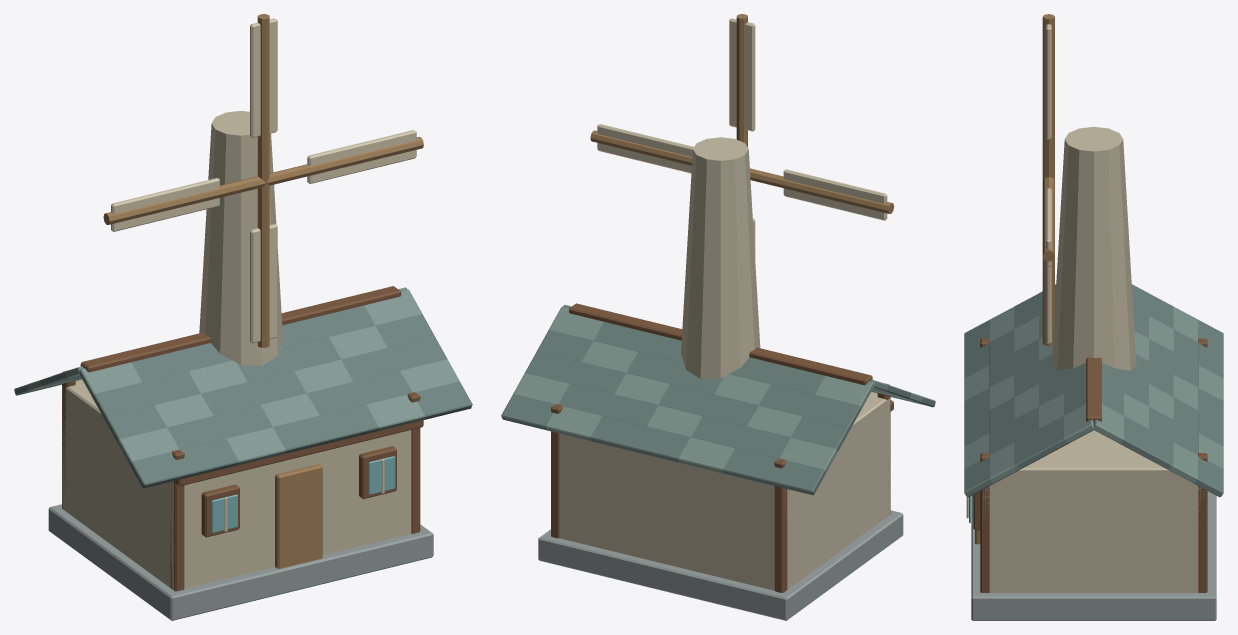
File: windmill.glb
3 renders of one model, left to right at view 1: azimuth 30°, elevation 25°; view 2: azimuth 150°, elevation 25°; view 3: azimuth 270°, elevation 25°, orthographic. The views are drawn at different scales.
Visible parts, largest first — view 1: Model; view 2: Model; view 3: Model.
Part boxes in pixels (bbox=[...]): Model: bbox=[14, 14, 472, 620]; Model: bbox=[501, 14, 935, 620]; Model: bbox=[964, 14, 1223, 620].
Bounding box in the file's own units: 3.35 × 5.3 × 2.3.
